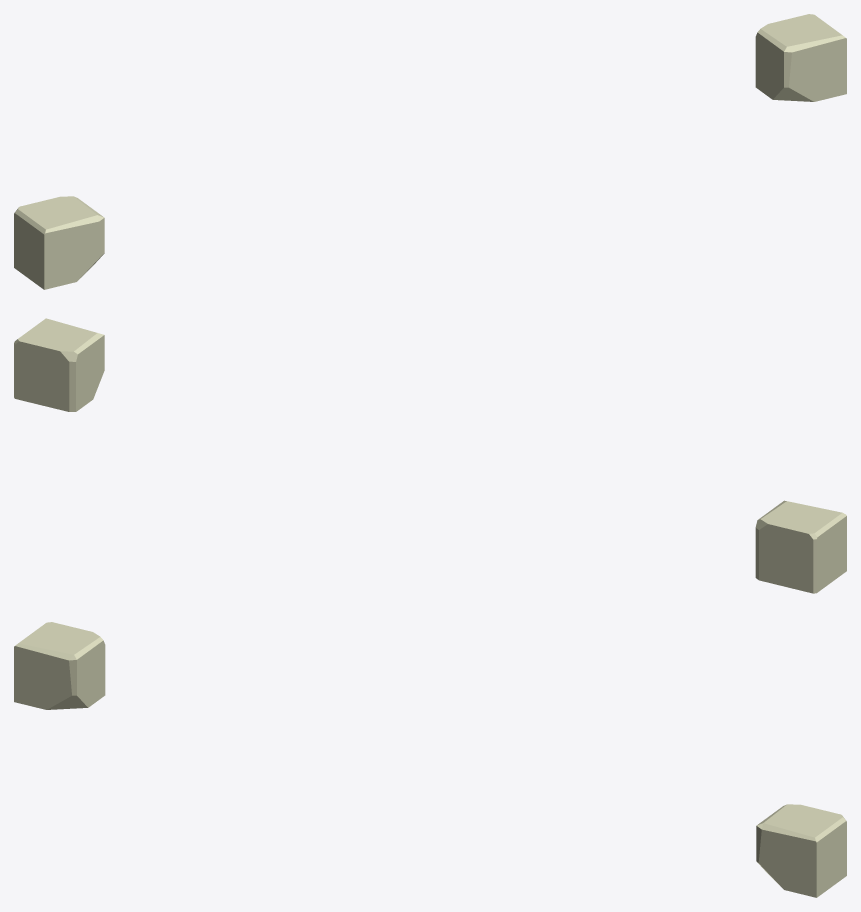
File: stonefixture.fbx
3 renders of one model, top to bottom at view 1: azimuth 30°, elevation 25°; view 2: azimuth 150°, elevation 25°; view 3: azimuth 330°, elevation 25°, orthographic.
Parts seen in each view (by area): view 1: Cube.034; view 2: Cube.034; view 3: Cube.034.
Boxes of the visible parts, bbox=[...] form: Cube.034: bbox=[14, 14, 846, 289]; Cube.034: bbox=[14, 318, 846, 593]; Cube.034: bbox=[14, 622, 846, 897].
Bounding box in the file's own units: 4049 × 283 × 275.
